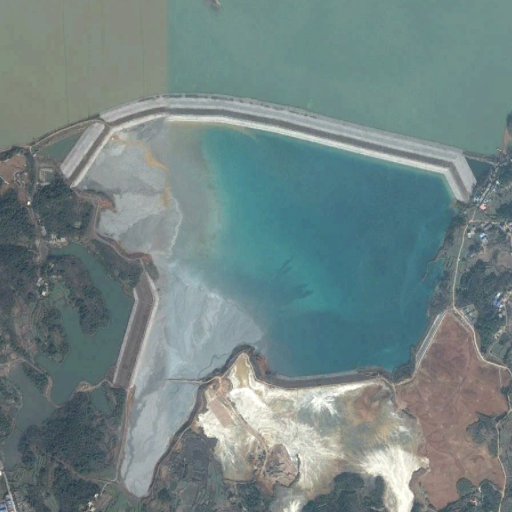tp: (58, 94, 477, 497)
